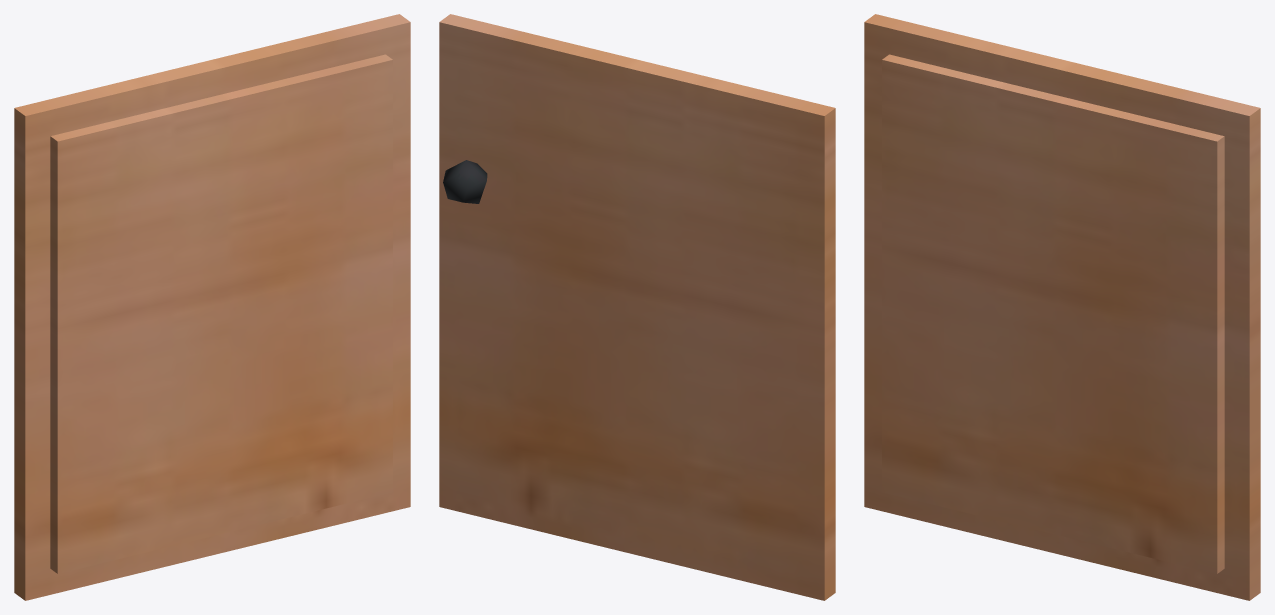
The model's file is Drawer_03.glb.
3 renders of one model, left to right at view 1: azimuth 30°, elevation 25°; view 2: azimuth 150°, elevation 25°; view 3: azimuth 330°, elevation 25°, orthographic.
Parts seen in each view (by area): view 1: Drawer_03; view 2: Drawer_03; view 3: Drawer_03.
Part boxes in pixels (x1,y1,x2,y2): Drawer_03: [14, 14, 410, 600]; Drawer_03: [439, 14, 835, 600]; Drawer_03: [864, 14, 1260, 600].
Size of the model in its own units: 0.5333 by 0.6413 by 0.0966.
2 materials, 2 textured.
